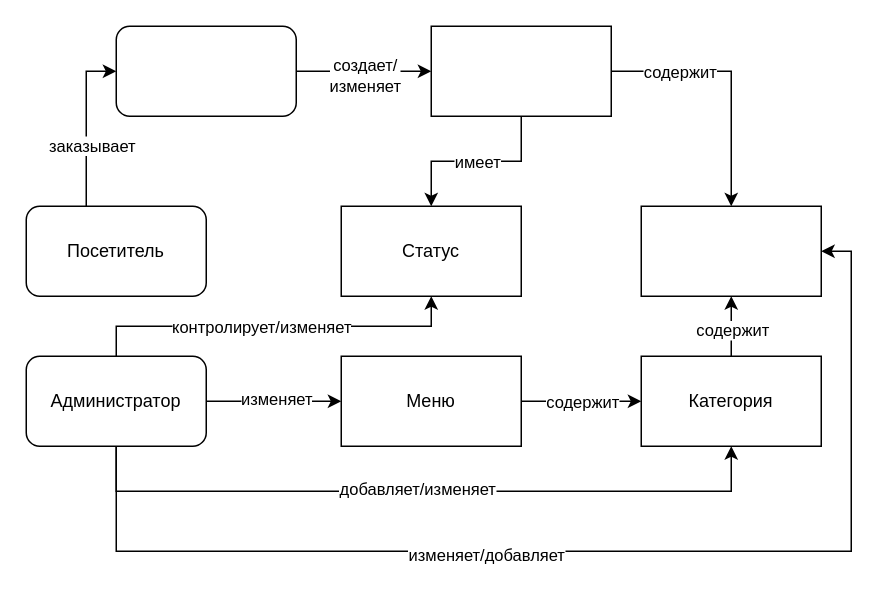
This 890x591 diagram has some shape labels left out. The centre of each missing label's shape, as x and y in pixels:
"Блюдо" goes at pixel 730 250.
"Заказ" goes at pixel 520 70.
"Сотрудник" goes at pixel 205 70.
